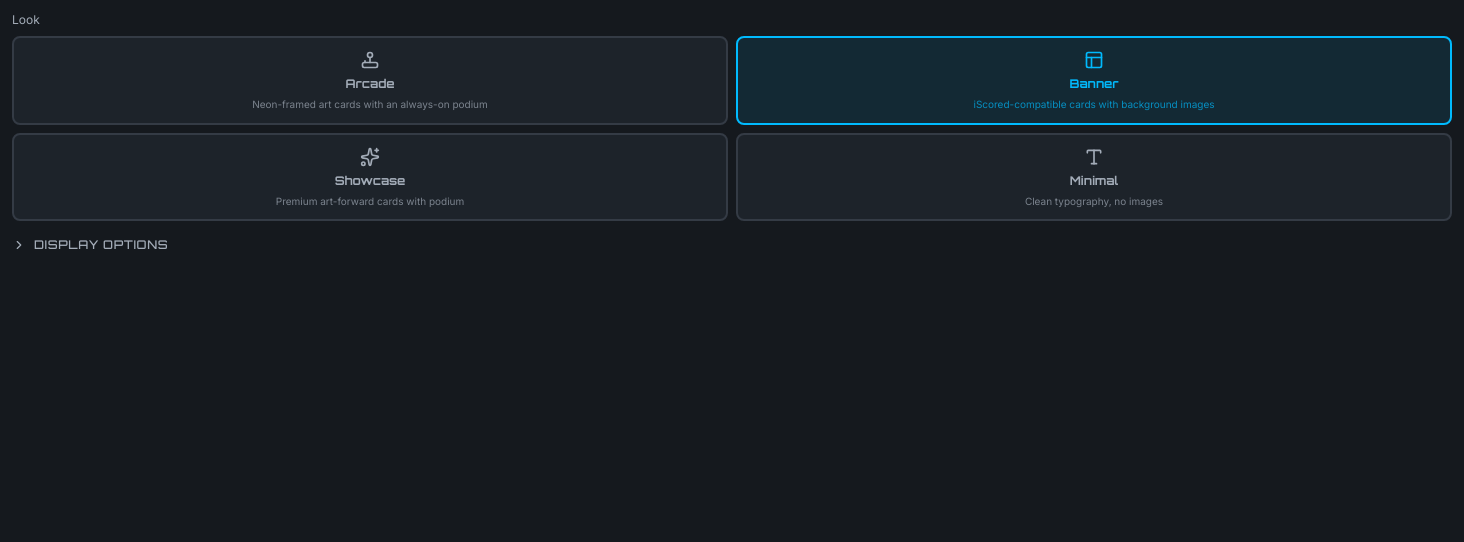
Test case: StyleThemePicker › hides the rankings-position control and shows a note when rankings style is ticker
This screenshot has width=1464, height=542.
Click the button "Display options" at (90, 245), box [12, 237, 168, 253]
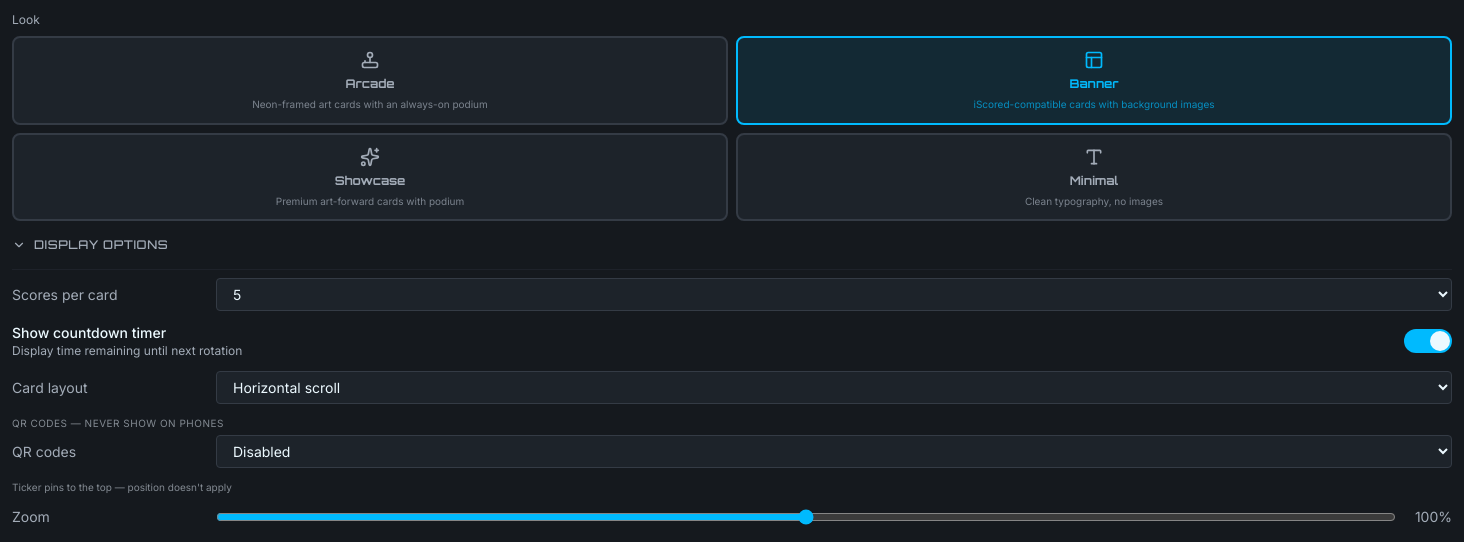
Now the text "Ticker pins to the top — position doesn't apply" is shown, box [12, 481, 232, 493]
